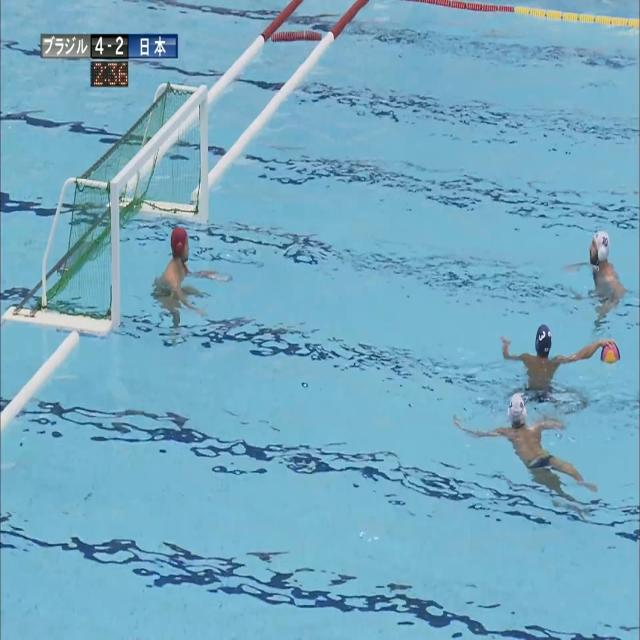ball: (601, 342, 620, 363)
